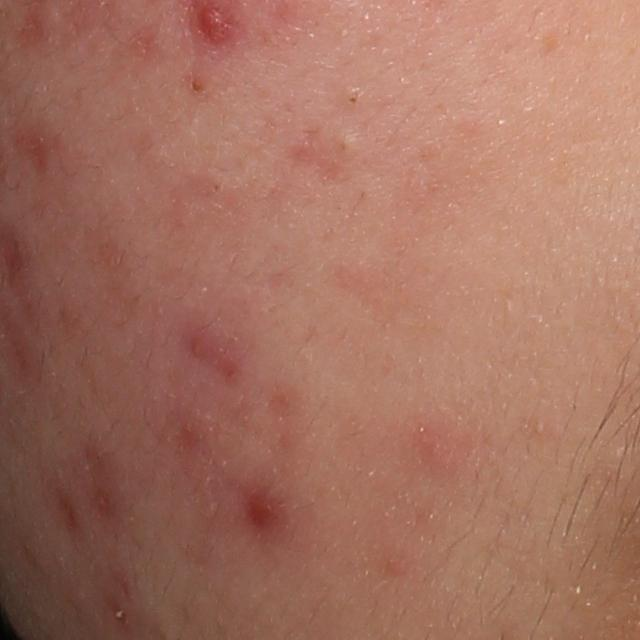comedo: (332, 126, 362, 158), (339, 85, 367, 112), (187, 75, 206, 94)
papule: (241, 485, 286, 534), (195, 2, 230, 43), (186, 335, 214, 361)
